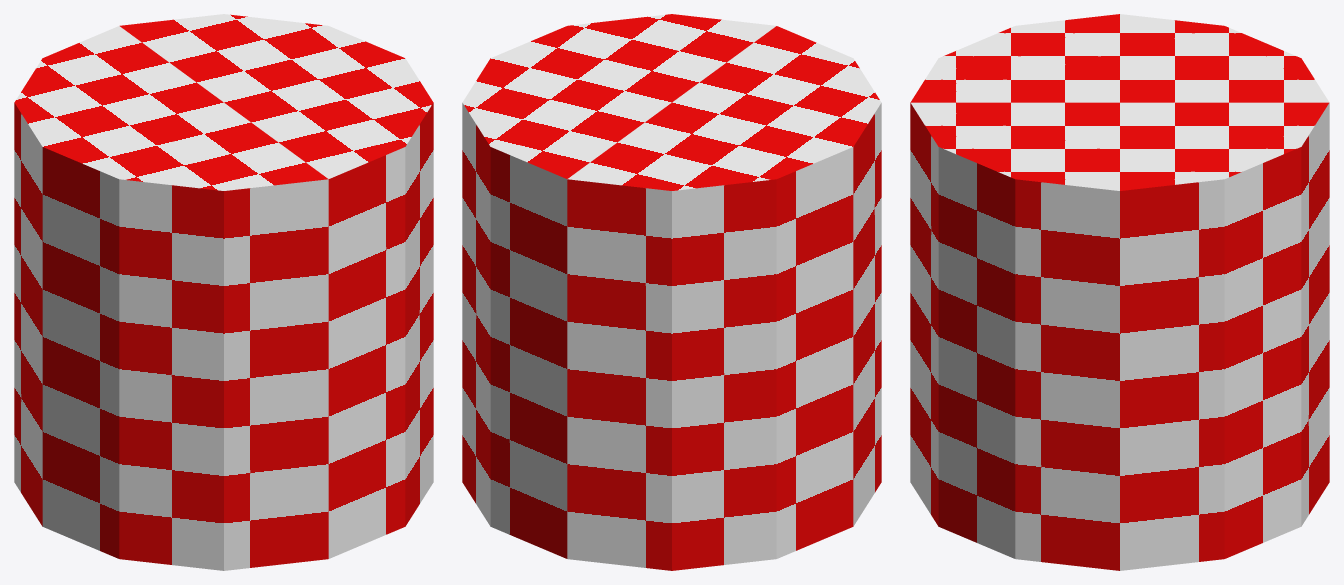
File: column.dae
The picture shows the model from 3 angles, left to right: view 1: azimuth 30°, elevation 25°; view 2: azimuth 150°, elevation 25°; view 3: azimuth 270°, elevation 25°; orthographic projection.
Visible parts, largest first — view 1: Cylinder; view 2: Cylinder; view 3: Cylinder.
Boxes of the visible parts, x1,y1,x2,y2 form: Cylinder: (14,14,433,570); Cylinder: (462,14,881,570); Cylinder: (910,14,1329,570).
Size of the model in its own units: 1 by 1 by 1.
Materials: 1 (1 with a texture image).
